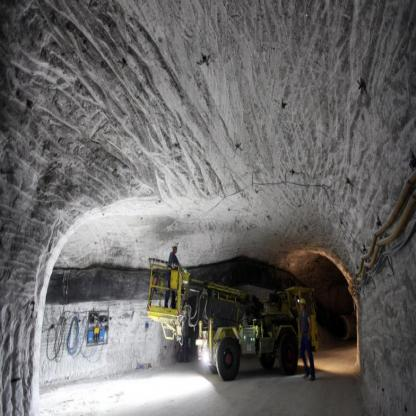person: (292, 293, 324, 384)
